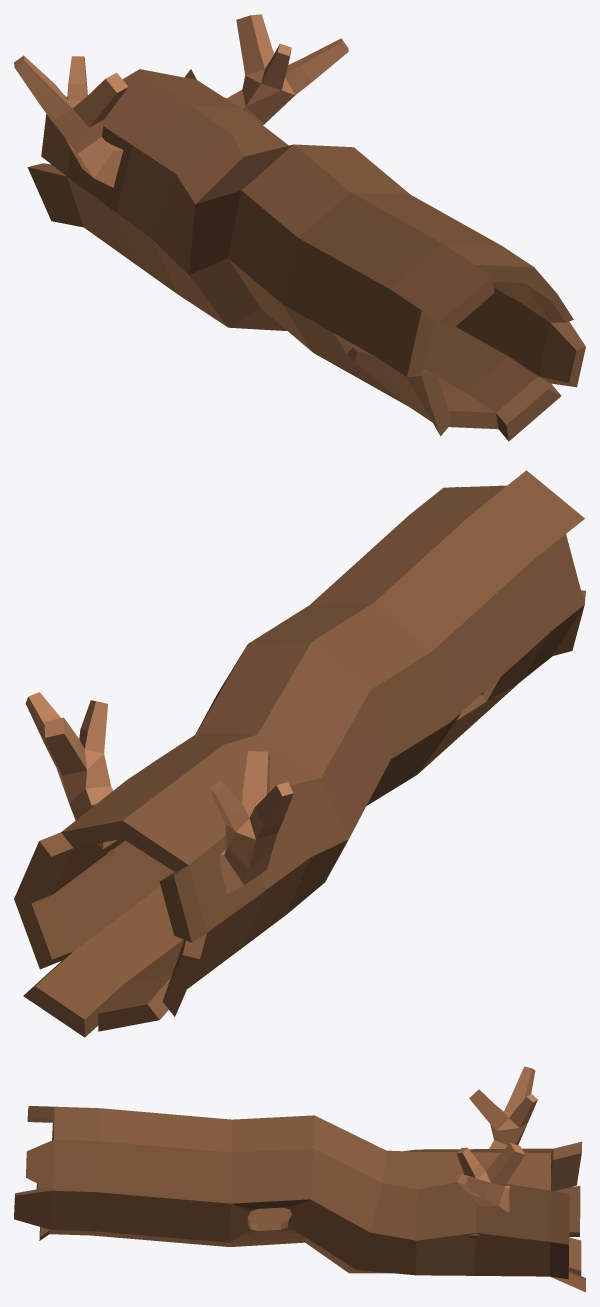
The model's file is ENVI_batang_kayu_besar.fbx.
The picture shows the model from 3 angles, top to bottom: view 1: azimuth 30°, elevation 25°; view 2: azimuth 150°, elevation 25°; view 3: azimuth 270°, elevation 25°; orthographic projection. The views are drawn at different scales.
Visible parts, largest first — view 1: batang kayu besar; view 2: batang kayu besar; view 3: batang kayu besar.
Part boxes in pixels (left/top/right/bottom): batang kayu besar: left=14, top=14, right=585, bottom=441; batang kayu besar: left=14, top=470, right=585, bottom=1037; batang kayu besar: left=14, top=1066, right=585, bottom=1292.
Bounding box in the file's own units: 225 × 182 × 533.
